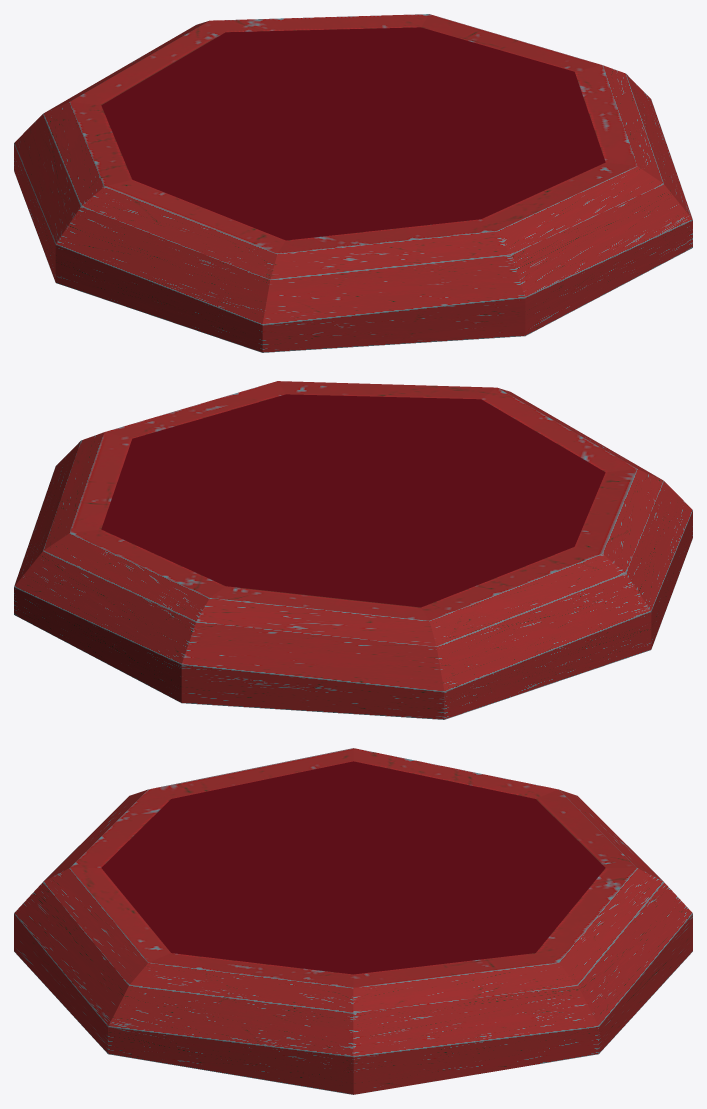
The model's file is FanBase.glb.
3 views of the same model, one above another, from view 1: azimuth 30°, elevation 25°; view 2: azimuth 150°, elevation 25°; view 3: azimuth 270°, elevation 25° (orthographic).
Parts seen in each view (by area): view 1: Cube; view 2: Cube; view 3: Cube.
Part boxes in pixels (<box>): Cube: <box>14,14,692,352</box>; Cube: <box>14,381,692,719</box>; Cube: <box>14,748,692,1094</box>.
Size of the model in its own units: 10.98 by 1.49 by 10.98.
Materials: 2 (2 with a texture image).
